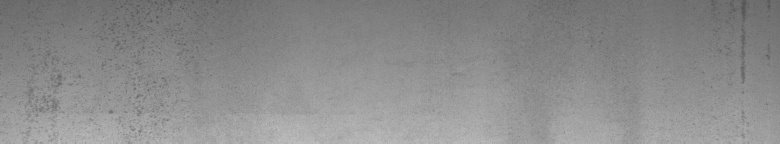ib: (26, 4, 188, 136)
